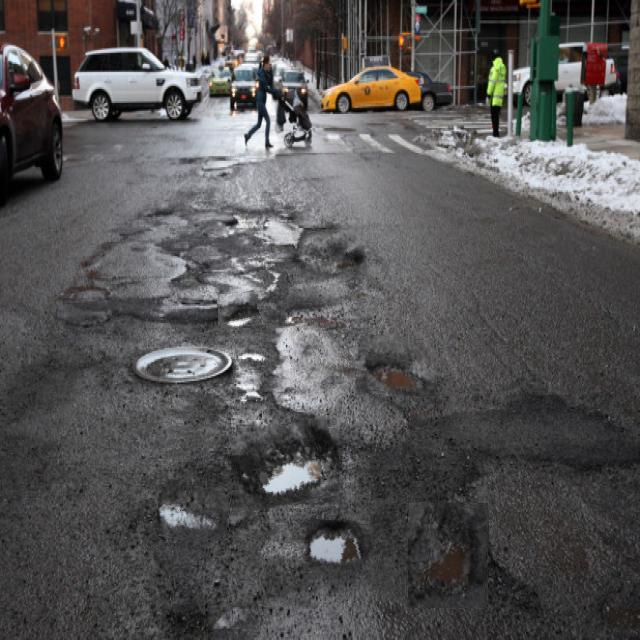Pothole: (233, 421, 339, 508), (408, 503, 489, 608), (356, 336, 437, 396), (157, 481, 230, 539), (295, 226, 367, 284), (305, 520, 372, 570), (218, 292, 259, 330)
